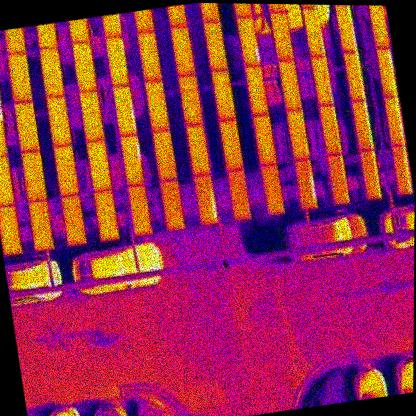Diode: (111, 84, 137, 138), (119, 135, 145, 188), (293, 156, 318, 211), (237, 14, 261, 67), (194, 173, 218, 225), (375, 46, 398, 97), (0, 107, 8, 158)
Hotspot: (211, 67, 237, 123)
Normal: (52, 144, 80, 198), (151, 128, 177, 185), (21, 149, 48, 203), (38, 44, 65, 98), (185, 122, 211, 178), (60, 193, 87, 246), (71, 40, 98, 93), (285, 108, 311, 163), (79, 89, 105, 143), (225, 167, 251, 221), (126, 182, 152, 236), (301, 4, 326, 60), (144, 79, 170, 132), (46, 95, 72, 148), (13, 101, 39, 154), (251, 114, 277, 167), (86, 140, 112, 193), (28, 198, 54, 251), (137, 31, 163, 84), (310, 53, 335, 108), (342, 49, 367, 104), (259, 164, 285, 216), (159, 179, 185, 231), (7, 52, 33, 104), (244, 64, 269, 118), (178, 72, 202, 128), (94, 188, 120, 239), (325, 152, 350, 205), (170, 24, 195, 77), (270, 8, 294, 63), (105, 34, 129, 88), (278, 59, 302, 112), (203, 19, 227, 71), (318, 105, 342, 156), (220, 120, 244, 171), (351, 99, 374, 151), (390, 144, 412, 196), (0, 204, 22, 256), (383, 95, 405, 146), (334, 5, 357, 53), (361, 150, 382, 200), (367, 5, 389, 49), (0, 155, 16, 208)
